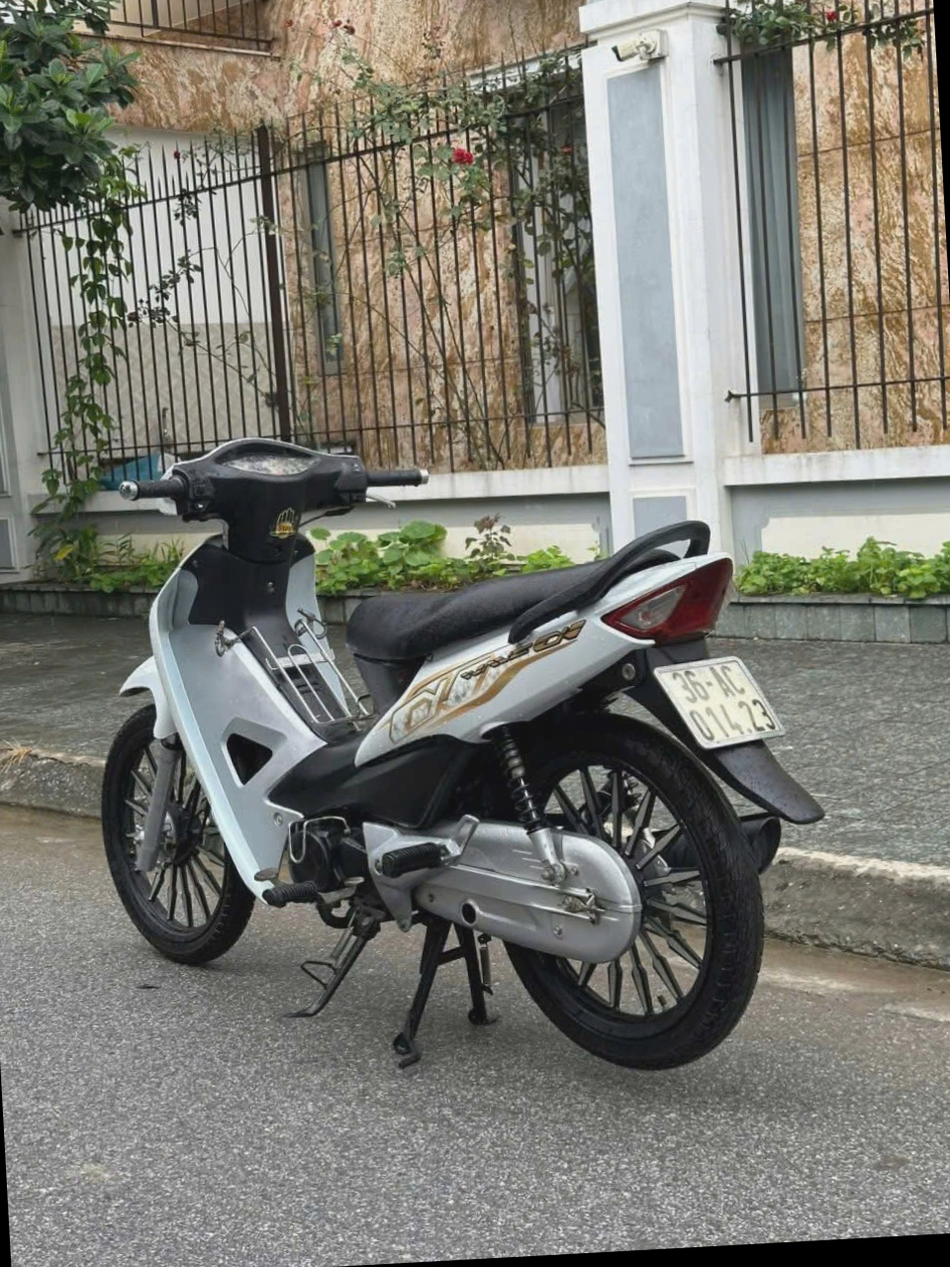Bien-so: (656, 642, 792, 746)
